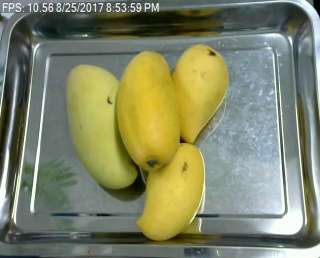Mango: (63, 63, 141, 193), (113, 51, 181, 171), (135, 142, 205, 241), (169, 43, 228, 143)
